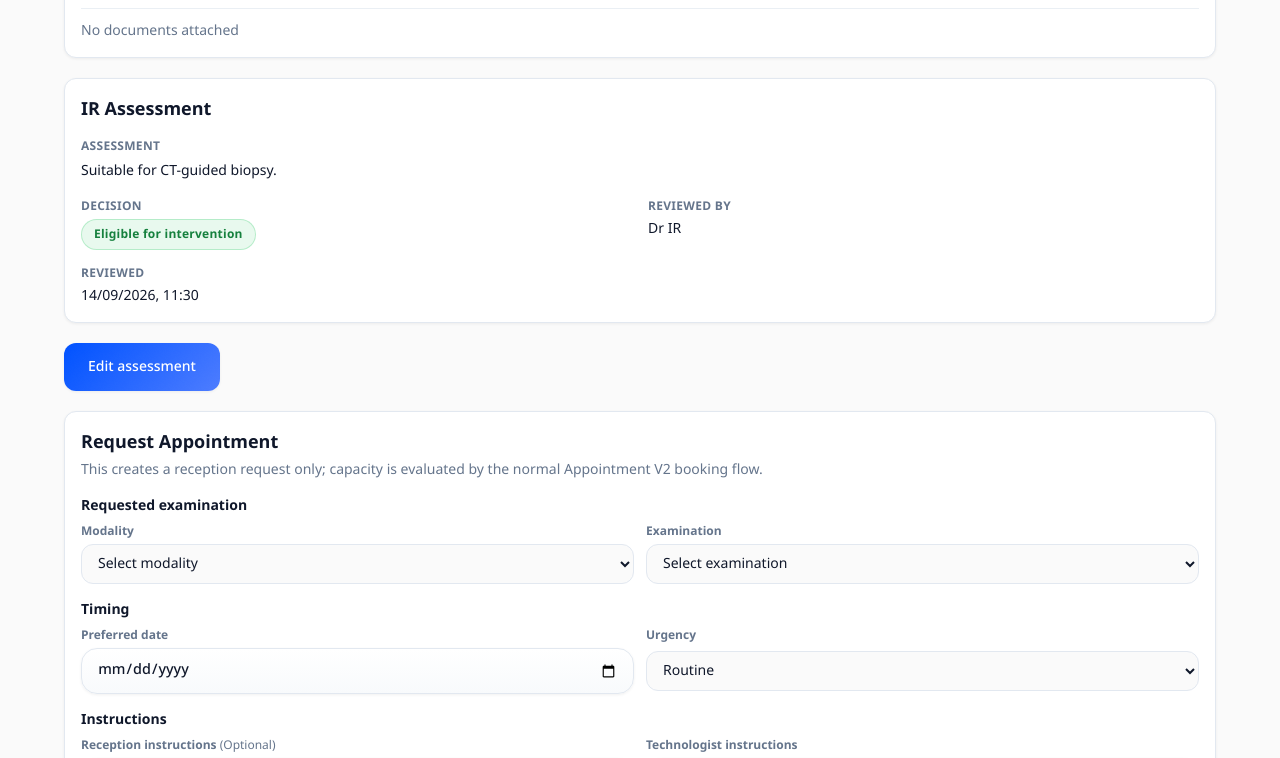
IR referral detail page › shows and safely rehydrates a previously eligible assessment for editing
(page scrolled)
Expected: the heading "IR Assessment" is shown, [81, 90, 211, 128]
Expected: the text "Suitable for CT-guided biopsy." is shown, [81, 156, 277, 185]
Click the button "Edit assessment" at (142, 367), box [64, 343, 220, 391]
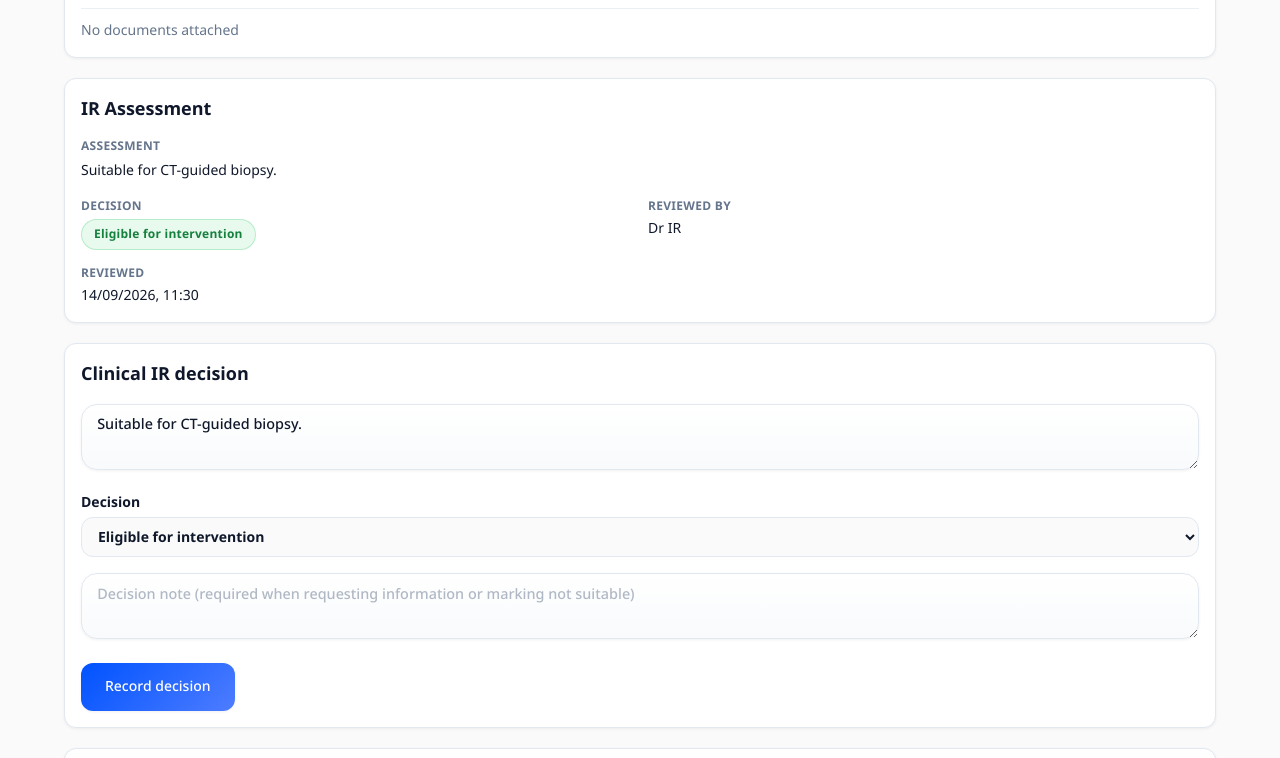
Now the heading "Clinical IR decision" is shown, box [81, 355, 249, 393]
Now the text box named "Assessment" holds "Suitable for CT-guided biopsy.", box [81, 404, 1199, 470]
Now the dropdown labelled "Decision" shows "Eligible for intervention", box [81, 517, 1199, 557]
